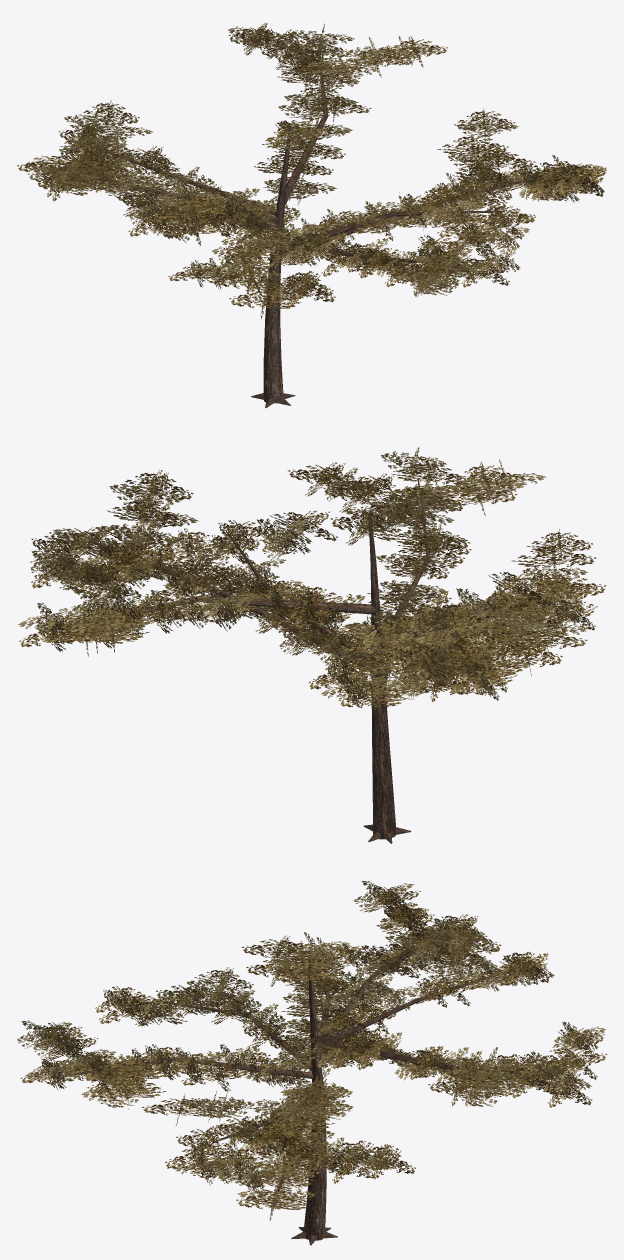
The model's file is tree_3d_06_golden_beige_lod1.glb.
3 views of the same model, one above another, from view 1: azimuth 30°, elevation 25°; view 2: azimuth 150°, elevation 25°; view 3: azimuth 270°, elevation 25° (orthographic). The views are drawn at different scales.
Visible parts, largest first — view 1: foliage_cards, wood_geometry; view 2: foliage_cards, wood_geometry; view 3: foliage_cards, wood_geometry.
Boxes of the visible parts, bbox=[...] form: foliage_cards: bbox=[17, 22, 606, 319]; wood_geometry: bbox=[55, 46, 554, 407]; foliage_cards: bbox=[18, 447, 606, 716]; wood_geometry: bbox=[57, 478, 576, 843]; foliage_cards: bbox=[17, 881, 607, 1220]; wood_geometry: bbox=[65, 928, 560, 1245].
Bounding box in the file's own units: 14.66 × 7.46 × 14.
Materials: 2 (2 with a texture image).
